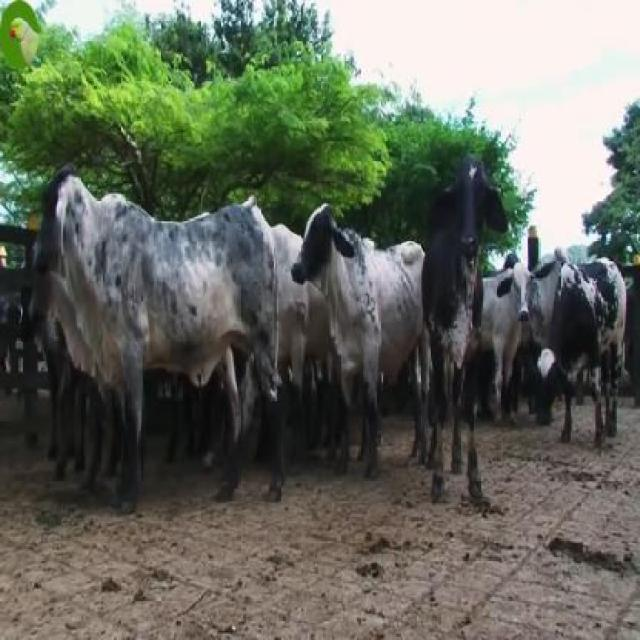Cow: (292, 203, 425, 475), (418, 157, 509, 511), (535, 257, 628, 461)
